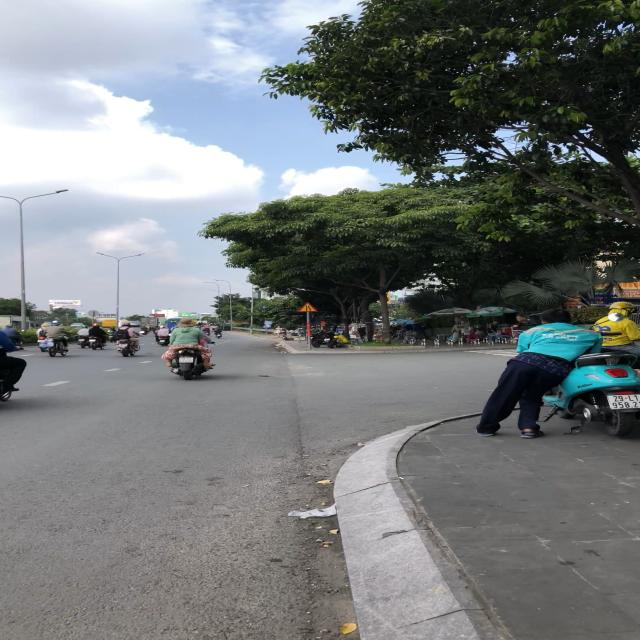Bien bao duong bi thu hep: (298, 302, 320, 312)
